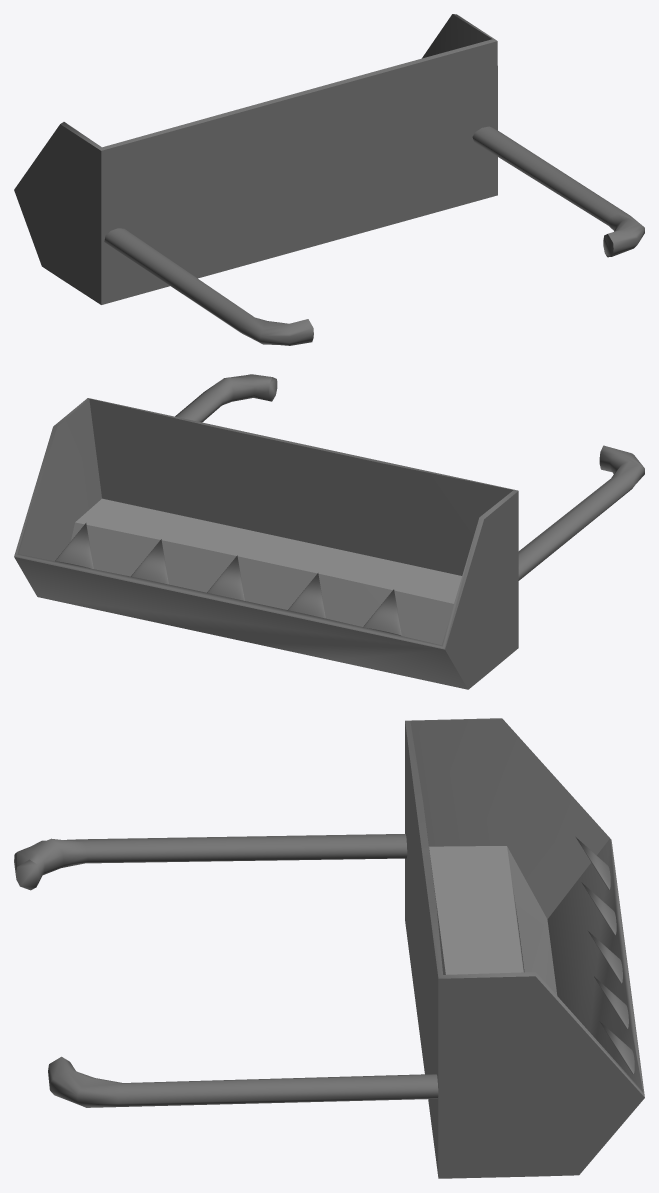
Rendered from Bulldozer_Pala (2).fbx.
3 views of the same model, one above another, from view 1: azimuth 30°, elevation 25°; view 2: azimuth 150°, elevation 25°; view 3: azimuth 270°, elevation 25° (orthographic). The views are drawn at different scales.
Parts seen in each view (by area): view 1: Bulldozer_Pala__1_; view 2: Bulldozer_Pala__1_; view 3: Bulldozer_Pala__1_.
Part boxes in pixels (x1,y1,x2,y2): Bulldozer_Pala__1_: (14, 14, 644, 345); Bulldozer_Pala__1_: (14, 374, 644, 689); Bulldozer_Pala__1_: (14, 718, 644, 1178).
Size of the model in its own units: 914 by 319 by 903.
